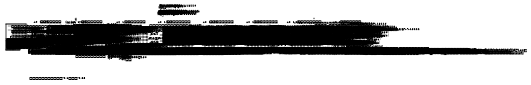room: (92, 42, 94, 46), (40, 46, 42, 48), (46, 36, 48, 38), (46, 29, 48, 31), (46, 31, 48, 33), (46, 26, 48, 28), (46, 24, 48, 26), (46, 33, 48, 35), (280, 37, 282, 38), (7, 37, 8, 38), (306, 37, 307, 38), (180, 13, 181, 14), (251, 46, 251, 47), (296, 39, 298, 39)
wall: (444, 51, 450, 56), (483, 51, 488, 56), (483, 25, 488, 30), (212, 71, 218, 75), (207, 69, 213, 72), (480, 20, 483, 25), (440, 51, 444, 54), (440, 25, 444, 28), (442, 20, 444, 25), (46, 33, 48, 35), (46, 31, 48, 33), (46, 36, 48, 38), (46, 29, 48, 31), (46, 26, 48, 28), (46, 24, 48, 26), (241, 25, 243, 26), (92, 18, 94, 19), (92, 19, 93, 21), (218, 25, 219, 26), (361, 25, 362, 26), (39, 39, 40, 40), (214, 37, 215, 38), (218, 50, 219, 51), (222, 25, 223, 26), (229, 25, 230, 26), (230, 25, 231, 26), (235, 25, 236, 26), (238, 25, 239, 26), (246, 50, 247, 51), (246, 25, 247, 26), (250, 37, 251, 38), (282, 25, 283, 26), (287, 25, 288, 26), (291, 25, 292, 26), (295, 25, 296, 26), (329, 37, 330, 38), (340, 25, 341, 26), (344, 25, 345, 26), (345, 25, 346, 26), (350, 25, 351, 26), (353, 25, 354, 26), (356, 25, 357, 26), (402, 25, 403, 26), (403, 25, 404, 26), (408, 25, 409, 26), (411, 25, 412, 26), (414, 25, 415, 26), (93, 18, 94, 19), (130, 49, 131, 50), (406, 39, 407, 39), (404, 39, 405, 39), (233, 39, 234, 39), (231, 39, 232, 39), (224, 37, 225, 37), (240, 39, 241, 39), (38, 44, 38, 45), (296, 39, 298, 39), (168, 46, 168, 46), (168, 43, 168, 43), (171, 46, 172, 46), (162, 46, 163, 46), (94, 48, 94, 48), (214, 46, 215, 46), (215, 44, 216, 44), (215, 40, 216, 40), (222, 26, 223, 26), (226, 25, 226, 26), (226, 26, 226, 26), (229, 26, 230, 26), (230, 26, 231, 26), (235, 26, 236, 26), (238, 26, 239, 26), (246, 26, 247, 26), (249, 40, 250, 40), (250, 46, 251, 46), (271, 46, 271, 46), (272, 44, 273, 44), (272, 40, 272, 40), (271, 37, 271, 38), (270, 32, 270, 33), (280, 37, 282, 37), (282, 26, 283, 26), (286, 25, 286, 26), (286, 26, 286, 26), (287, 26, 288, 26), (291, 25, 291, 25), (292, 26, 292, 26), (295, 26, 296, 26), (298, 25, 298, 26), (298, 26, 298, 26), (303, 26, 304, 26), (307, 46, 307, 46), (306, 40, 306, 40), (307, 37, 307, 38), (302, 51, 304, 51), (355, 39, 356, 39), (329, 46, 330, 46), (330, 44, 331, 44), (330, 40, 330, 40), (339, 37, 340, 37), (340, 26, 341, 26), (344, 26, 345, 26), (345, 26, 346, 26), (349, 25, 349, 25), (350, 26, 351, 26), (353, 26, 354, 26), (356, 26, 357, 26), (361, 26, 362, 26), (365, 46, 365, 46), (364, 40, 365, 40), (361, 51, 362, 51), (387, 28, 387, 28), (399, 25, 399, 26), (399, 26, 399, 26), (402, 26, 403, 26), (407, 51, 408, 51), (403, 26, 404, 26), (407, 25, 408, 25), (408, 26, 409, 26), (411, 26, 412, 26), (100, 19, 101, 19), (290, 39, 290, 39), (287, 39, 288, 39), (348, 39, 349, 39), (346, 39, 346, 39), (96, 53, 97, 53), (130, 50, 131, 50)
